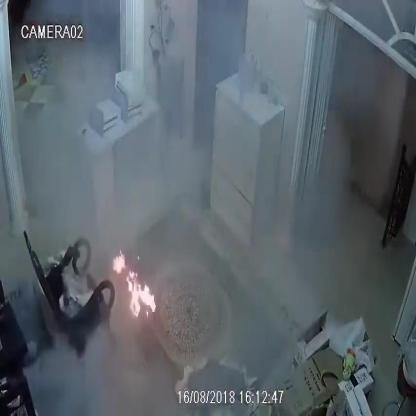fire: (127, 271, 156, 317), (113, 249, 125, 274)
